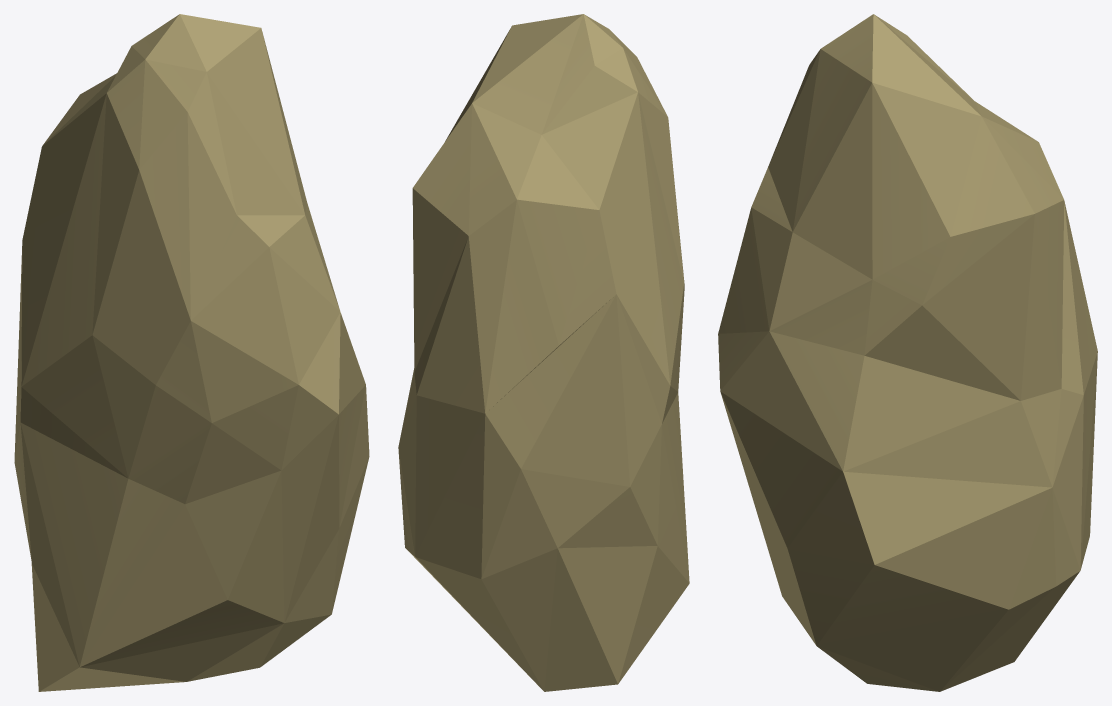
File: SM_small_rock_29.fbx
The picture shows the model from 3 angles, left to right: view 1: azimuth 30°, elevation 25°; view 2: azimuth 150°, elevation 25°; view 3: azimuth 270°, elevation 25°; orthographic projection. The views are drawn at different scales.
Parts seen in each view (by area): view 1: small_rock_29; view 2: small_rock_29; view 3: small_rock_29.
Part boxes in pixels (<box>): small_rock_29: <box>14,14,369,691</box>; small_rock_29: <box>398,14,689,691</box>; small_rock_29: <box>718,14,1097,691</box>.
Size of the model in its own units: 81.99 by 172 by 89.53.
